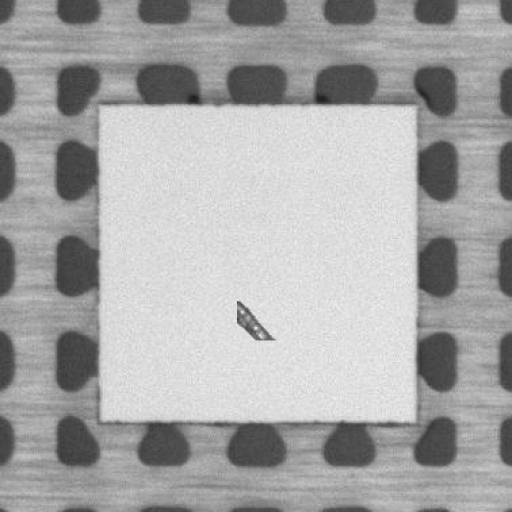DIE_INK: (236, 303, 271, 339)
